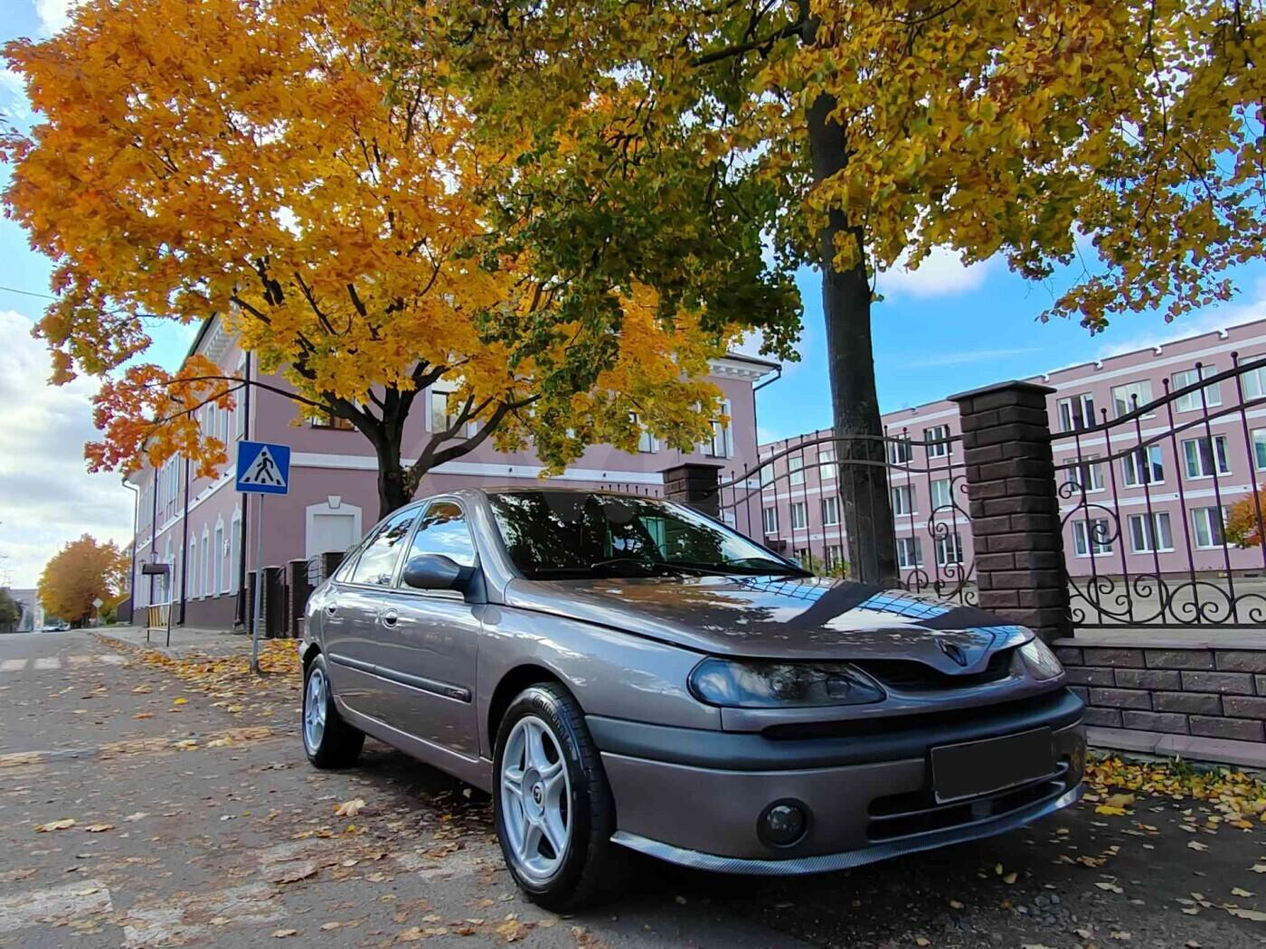Laguna_1998-2001: (296, 479, 1106, 913)
